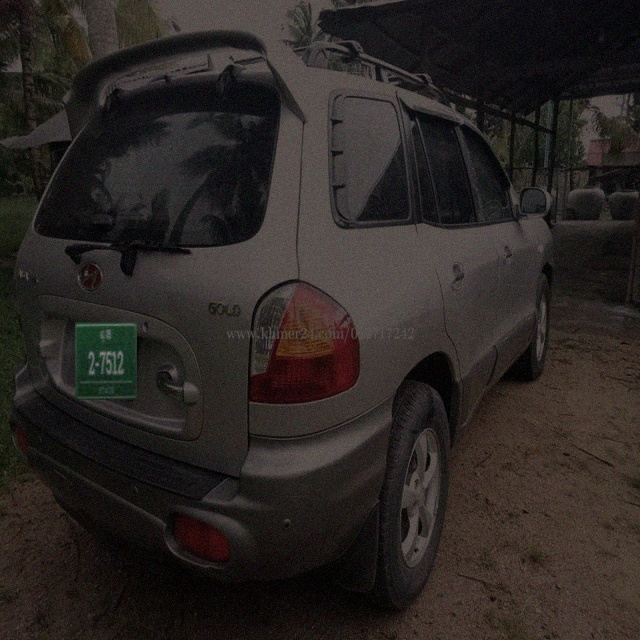Plate Number: (76, 323, 137, 400)
